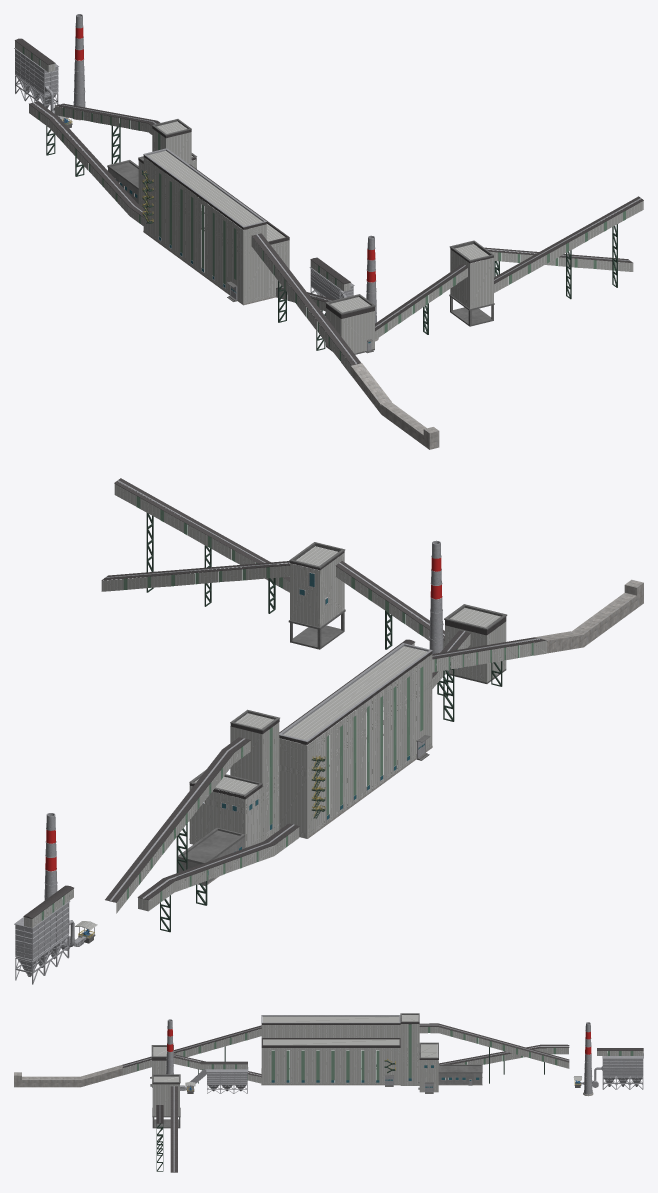
3 renders of one model, top to bottom at view 1: azimuth 30°, elevation 25°; view 2: azimuth 150°, elevation 25°; view 3: azimuth 270°, elevation 25°, orthographic. The views are drawn at different scales.
Parts seen in each view (by area): view 1: 混配001, 混配003, 混配008, 混配002, 混配006, 混配005, 混配007; view 2: 混配001, 混配003, 混配008, 混配002, 混配005, 混配007, 混配006; view 3: 混配001, 混配008, 混配003, 混配002, 混配006, 混配005, 混配004, 混配007.
Boxes of the visible parts, x1=… form: 混配001: x1=15, y1=41, x2=643, y2=375; 混配003: x1=15, y1=38, x2=643, y2=365; 混配008: x1=14, y1=14, x2=641, y2=363; 混配002: x1=22, y1=47, x2=625, y2=361; 混配006: x1=73, y1=117, x2=439, y2=449; 混配005: x1=62, y1=119, x2=494, y2=354; 混配007: x1=46, y1=123, x2=617, y2=350; 混配001: x1=24, y1=484, x2=546, y2=930; 混配003: x1=23, y1=478, x2=546, y2=918; 混配008: x1=14, y1=480, x2=540, y2=984; 混配002: x1=41, y1=496, x2=533, y2=920; 混配005: x1=78, y1=542, x2=507, y2=943; 混配007: x1=146, y1=513, x2=502, y2=932; 混配006: x1=198, y1=579, x2=643, y2=886; 混配001: x1=122, y1=1015, x2=643, y2=1116; 混配008: x1=123, y1=1015, x2=643, y2=1172; 混配003: x1=122, y1=1022, x2=643, y2=1172; 混配002: x1=137, y1=1024, x2=633, y2=1080; 混配006: x1=14, y1=1064, x2=593, y2=1096; 混配005: x1=150, y1=1013, x2=581, y2=1128; 混配004: x1=438, y1=1073, x2=482, y2=1084; 混配007: x1=156, y1=1046, x2=544, y2=1171.
Bounding box in the file's own units: 114 × 38.95 × 272.
12 materials, 11 textured.
